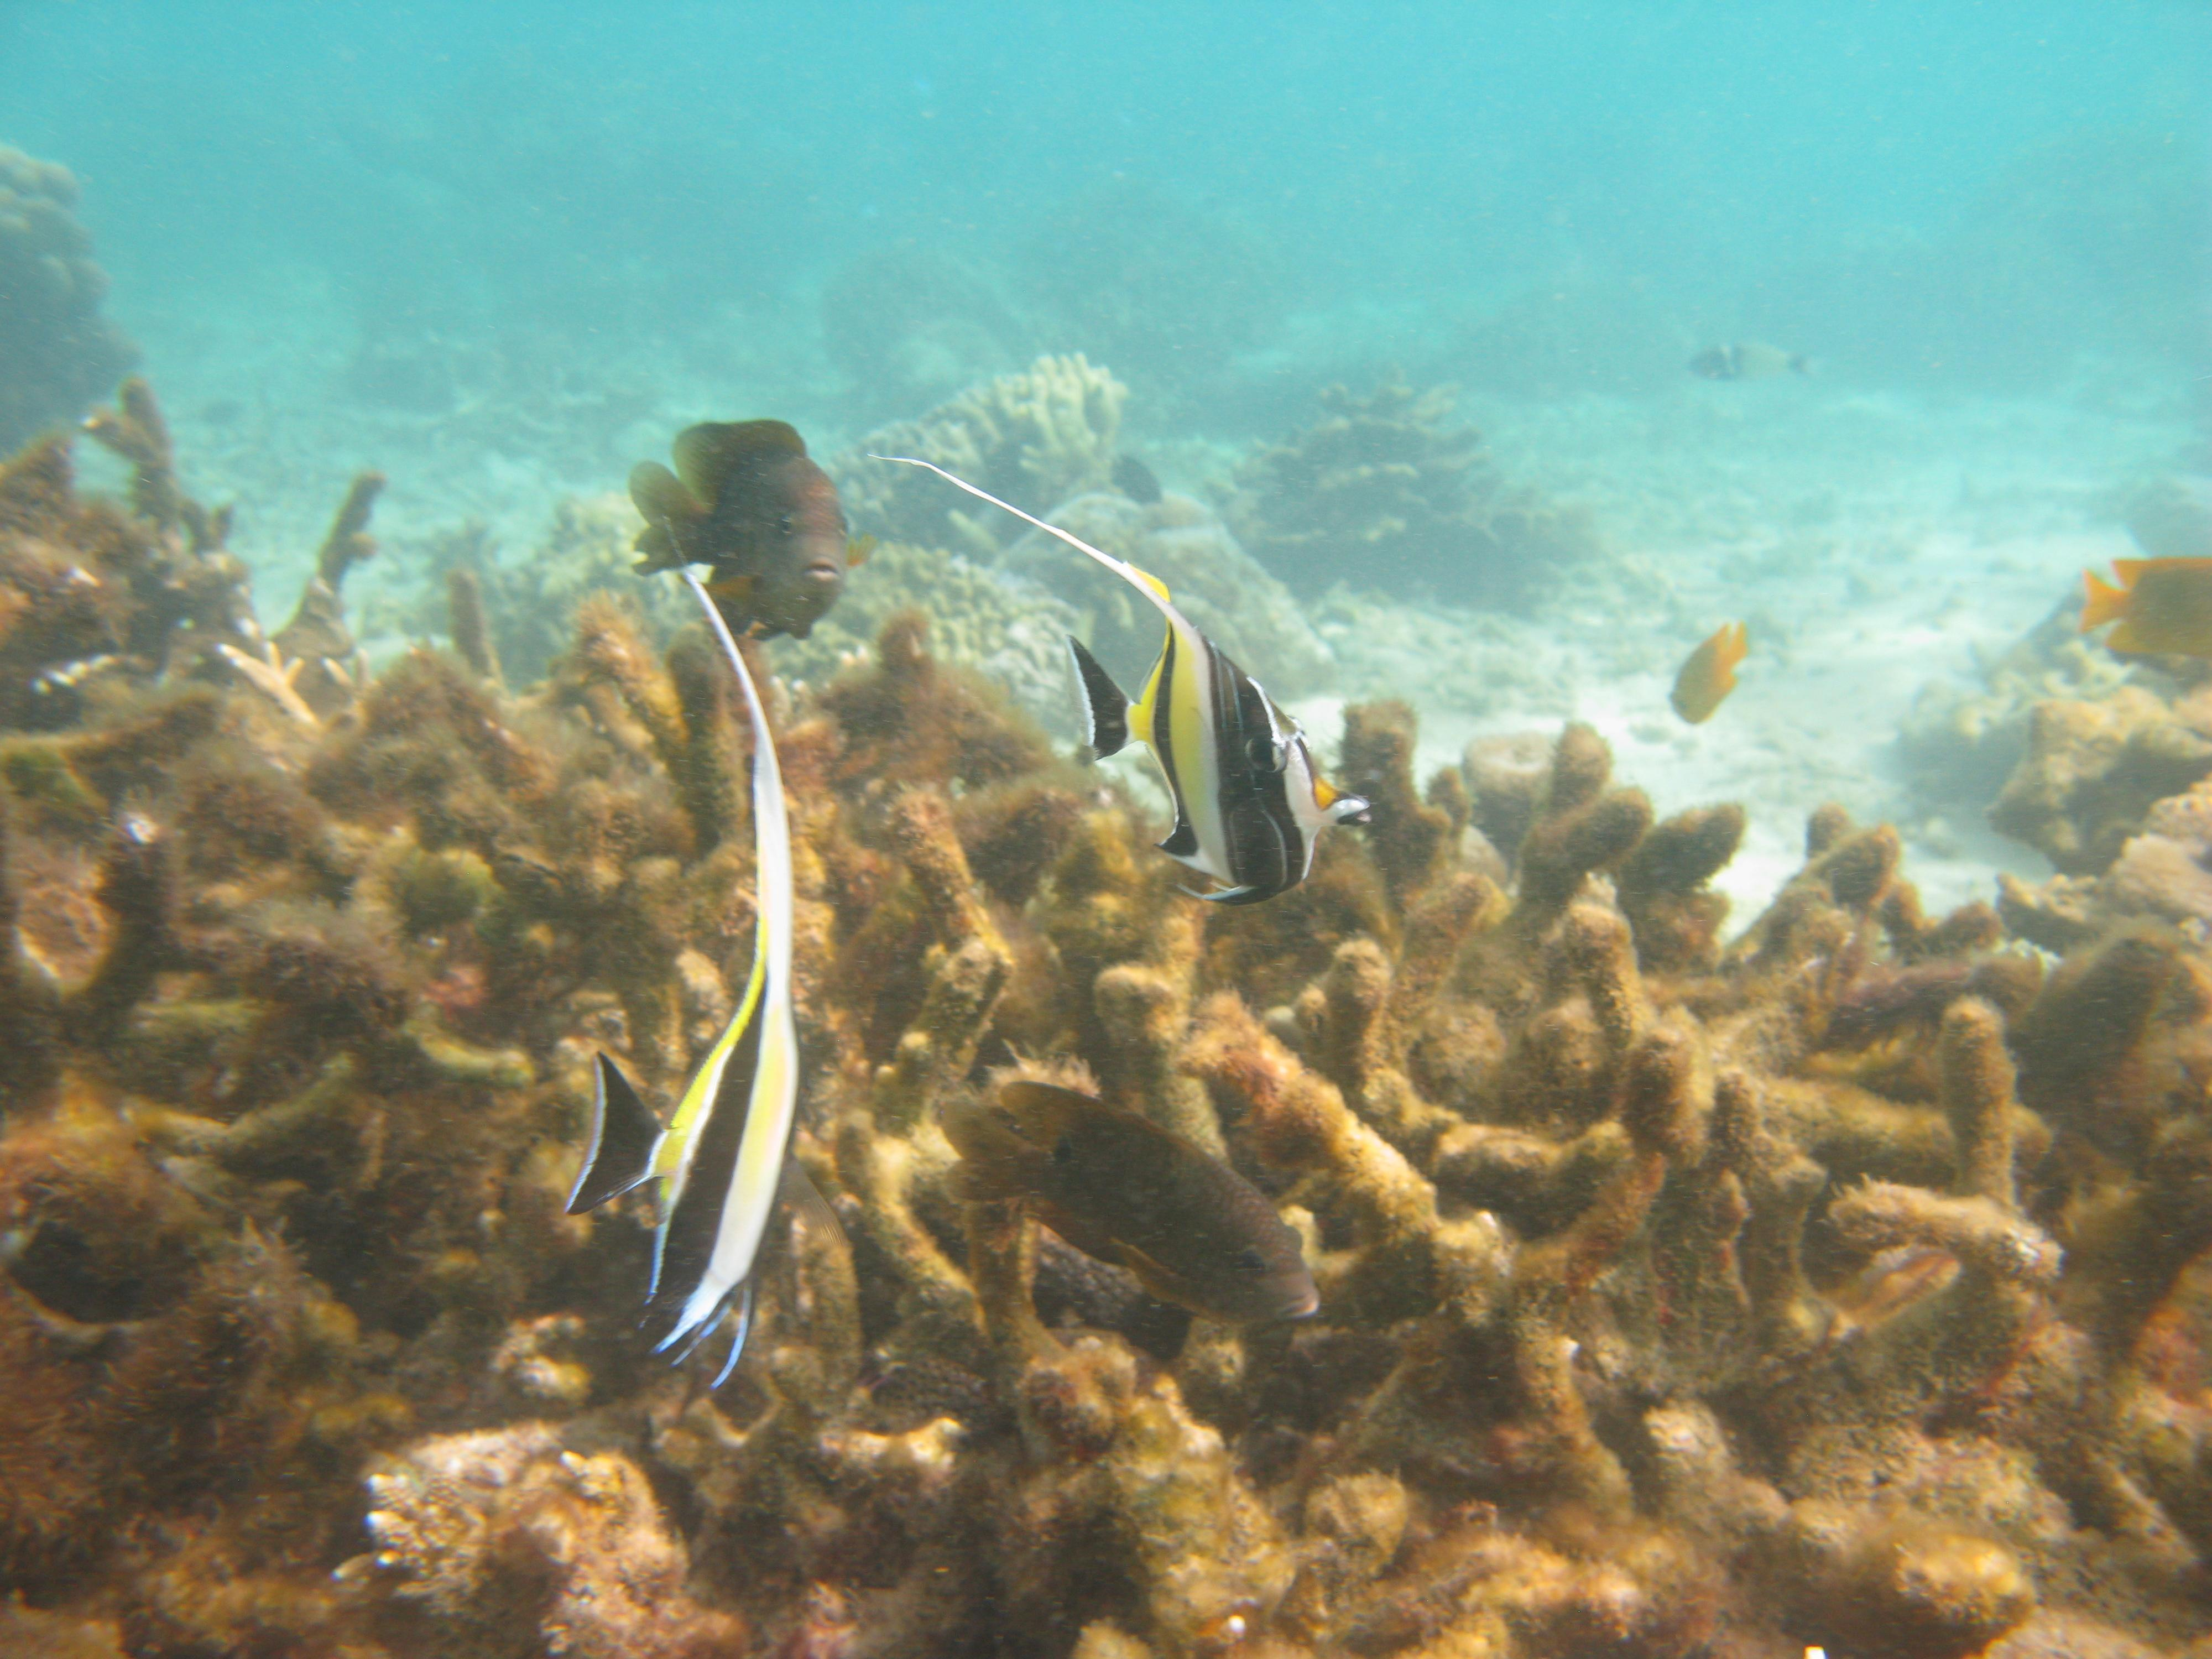Fish: (629, 401, 890, 673)
